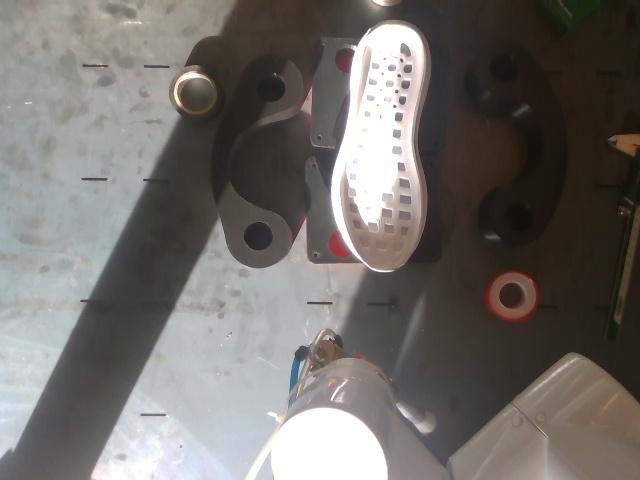shoes: (340, 25, 424, 270)
